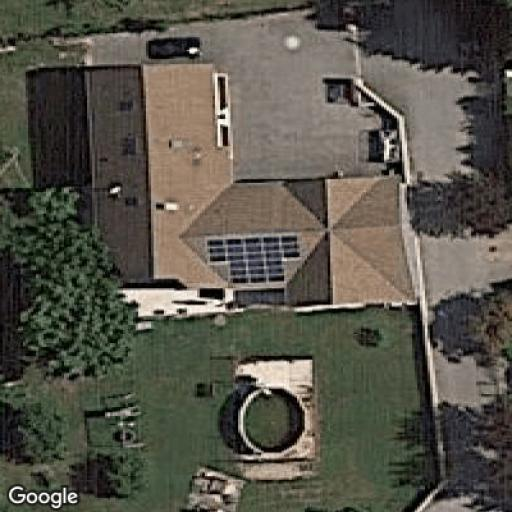solar-panel: (204, 237, 300, 285)
